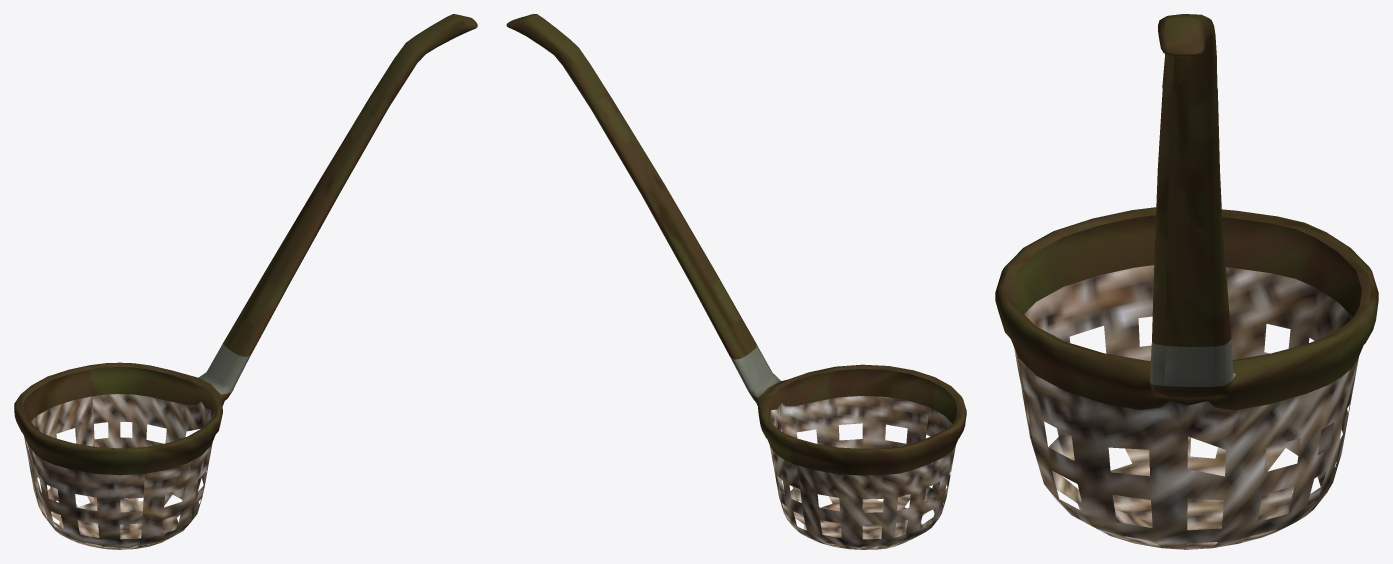
Rendered from M_LouchePecheBavecDesTrous.fbx.
The picture shows the model from 3 angles, left to right: view 1: azimuth 30°, elevation 25°; view 2: azimuth 150°, elevation 25°; view 3: azimuth 270°, elevation 25°; orthographic projection. The views are drawn at different scales.
Visible parts, largest first — view 1: objets_0001:Louche2; view 2: objets_0001:Louche2; view 3: objets_0001:Louche2.
Boxes of the visible parts, x1,y1,x2,y2 form: objets_0001:Louche2: (14, 14, 477, 549); objets_0001:Louche2: (506, 14, 966, 549); objets_0001:Louche2: (995, 14, 1378, 549).
Size of the model in its own units: 24.5 by 23.17 by 9.91.
